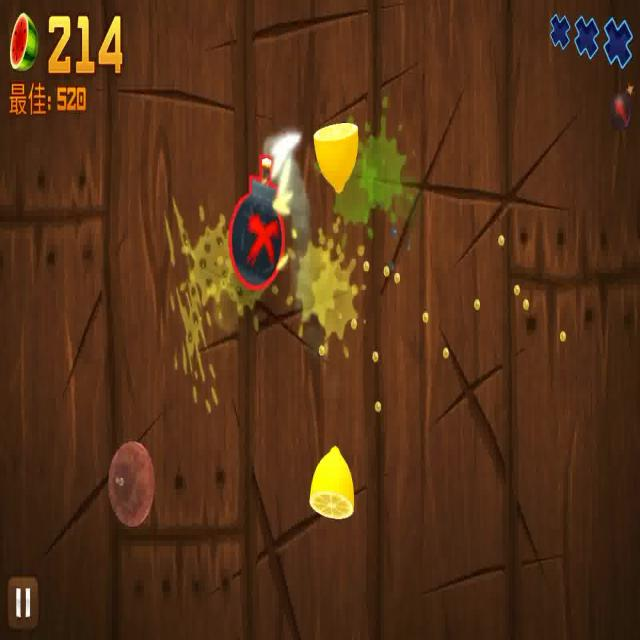bomb: (226, 152, 286, 290)
fruit: (107, 442, 156, 527), (306, 438, 355, 518), (314, 123, 360, 197)
